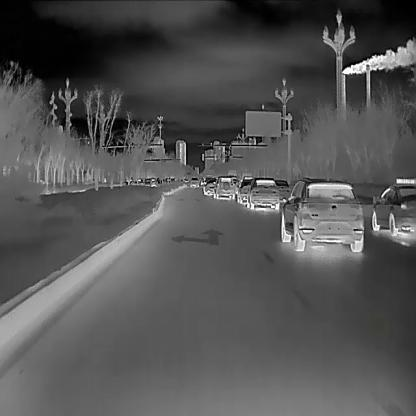car: (280, 175, 364, 252), (371, 177, 415, 236), (246, 176, 280, 210), (235, 174, 255, 204), (212, 176, 236, 199), (272, 178, 290, 200), (203, 178, 219, 195), (189, 176, 199, 187)
